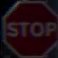Stop: (5, 5, 54, 49)
